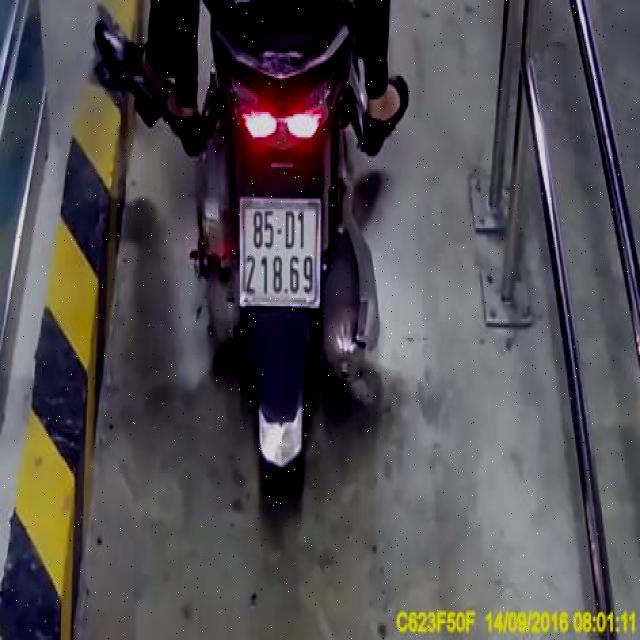1: (296, 205, 309, 252), (258, 253, 272, 296)
2: (244, 251, 256, 295)
5: (262, 206, 276, 251)
6: (288, 253, 300, 294)
8: (250, 206, 265, 251), (271, 252, 283, 296)
9: (302, 252, 315, 296)
D: (283, 208, 296, 251)
